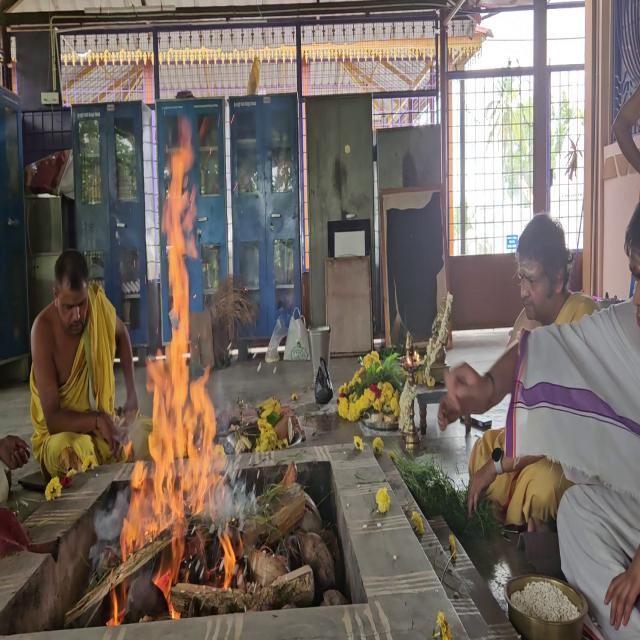fire: (96, 115, 243, 633)
